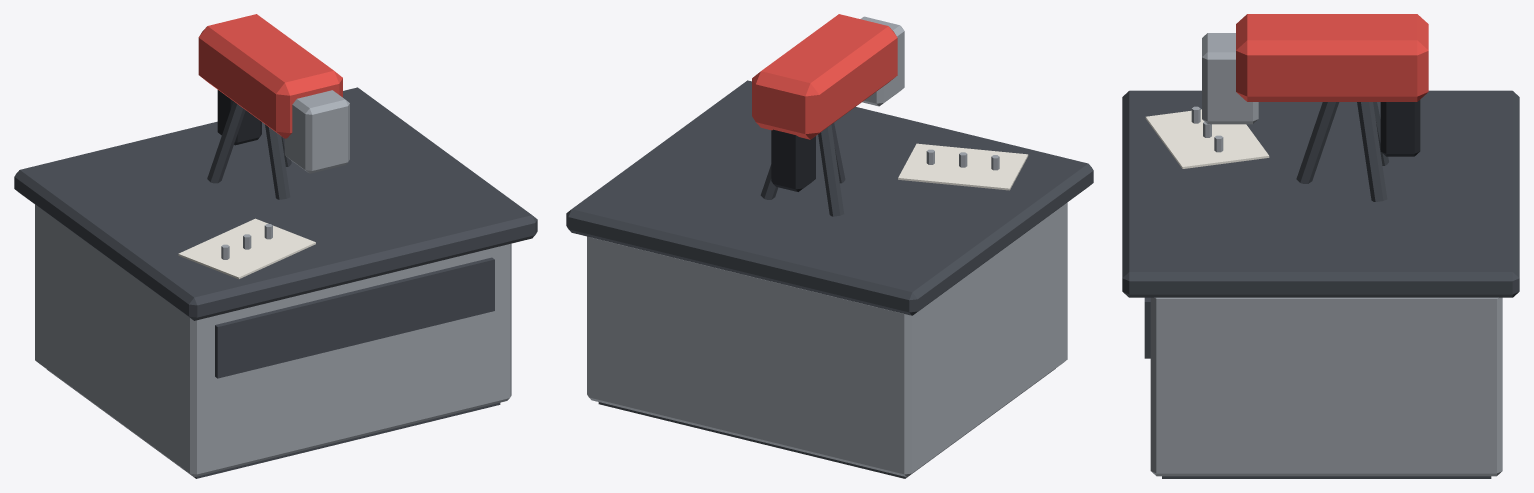
File: artillery_p0_3.glb
3 renders of one model, left to right at view 1: azimuth 30°, elevation 25°; view 2: azimuth 150°, elevation 25°; view 3: azimuth 270°, elevation 25°, orthographic. The views are drawn at different scales.
Visible parts, largest first — view 1: artillery_p0_3_mesh_Desk, artillery_p0_3_mesh; view 2: artillery_p0_3_mesh_Desk, artillery_p0_3_mesh; view 3: artillery_p0_3_mesh_Desk, artillery_p0_3_mesh.
Part boxes in pixels (x1,y1,x2,y2): artillery_p0_3_mesh_Desk: [14, 87, 537, 478]; artillery_p0_3_mesh: [178, 14, 349, 279]; artillery_p0_3_mesh_Desk: [566, 80, 1093, 478]; artillery_p0_3_mesh: [752, 14, 1028, 216]; artillery_p0_3_mesh_Desk: [1122, 90, 1519, 478]; artillery_p0_3_mesh: [1145, 14, 1428, 201].
Size of the model in its own units: 0.78 by 0.72 by 0.7.
